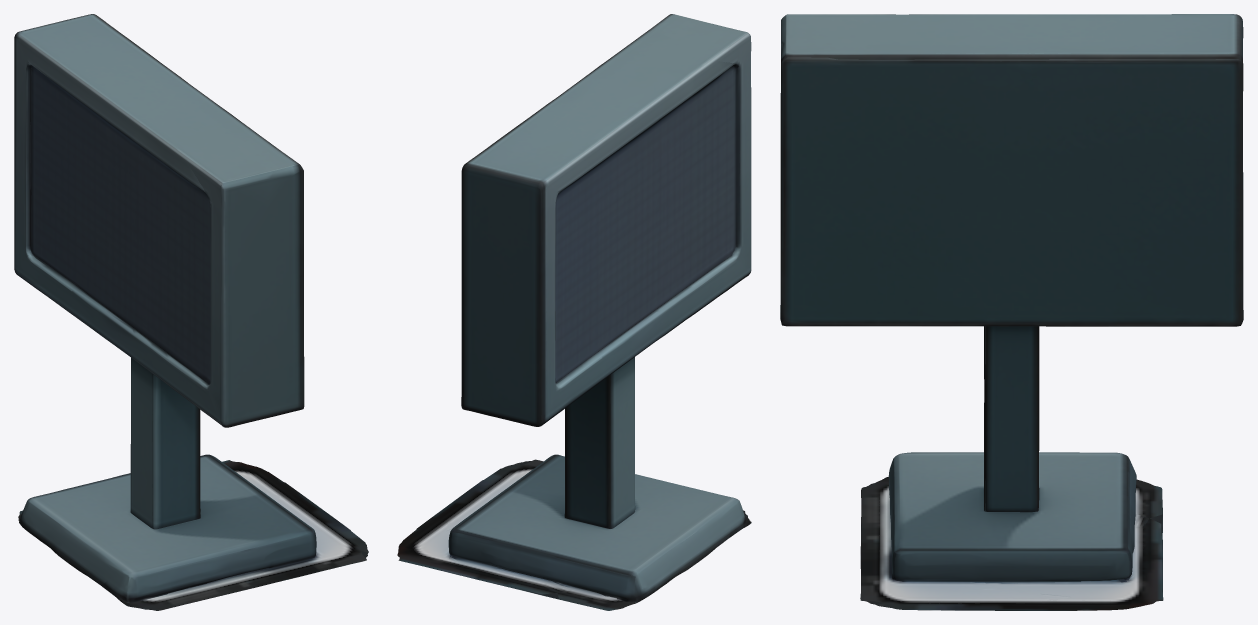
File: jumbotron.glb
3 renders of one model, left to right at view 1: azimuth 30°, elevation 25°; view 2: azimuth 150°, elevation 25°; view 3: azimuth 270°, elevation 25°, orthographic. The views are drawn at different scales.
Visible parts, largest first — view 1: geometry_0; view 2: geometry_0; view 3: geometry_0.
Boxes of the visible parts, box(x1,y1,x2,y2) form: geometry_0: box(14, 14, 368, 610); geometry_0: box(397, 14, 751, 610); geometry_0: box(780, 14, 1243, 610).
Bounding box in the file's own units: 0.5824 × 0.9985 × 0.8523.
Materials: 1 (1 with a texture image).
